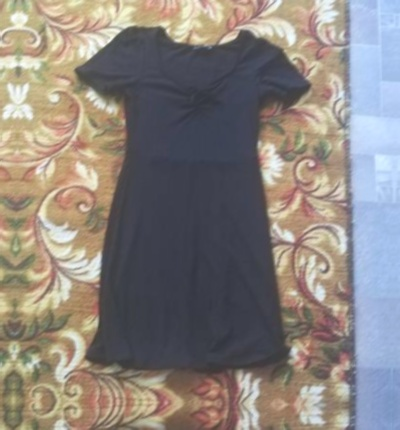Dress: (37, 12, 339, 378), (31, 429, 332, 430)
